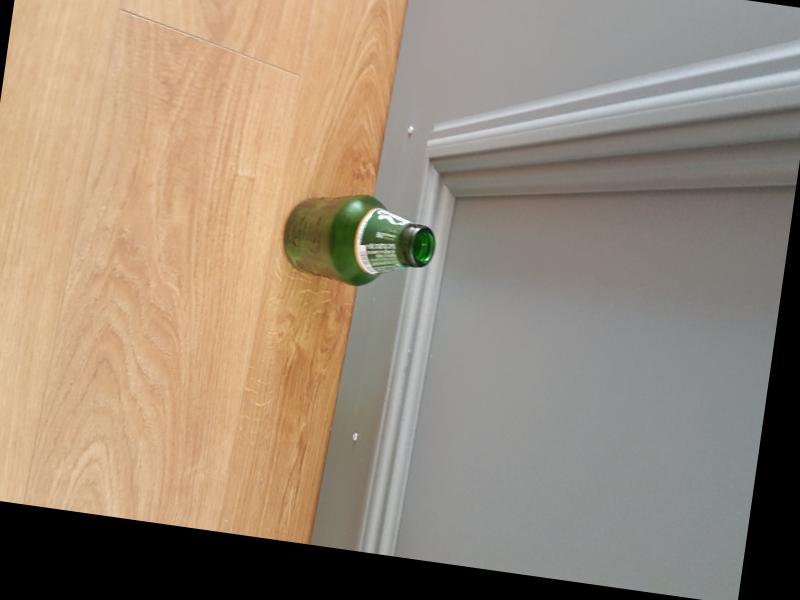Beer: (277, 184, 440, 296)
